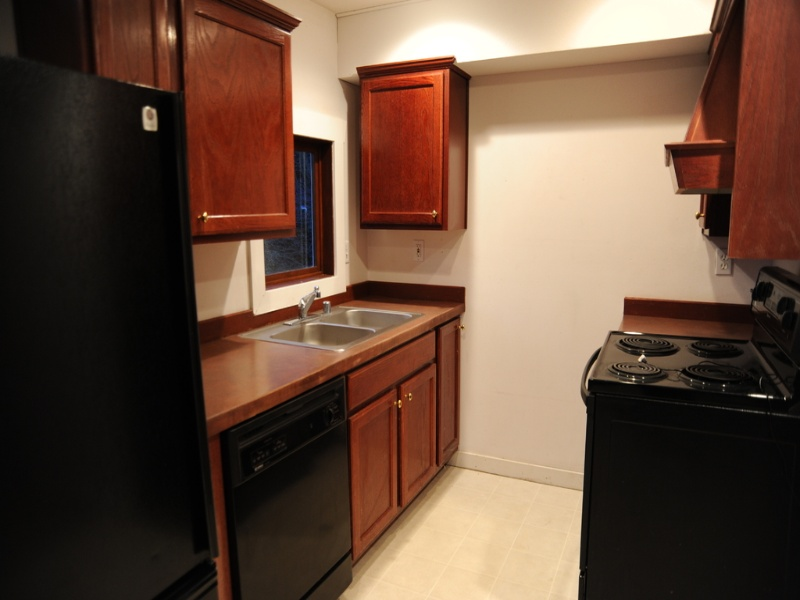oven: (568, 331, 788, 600)
refrigerator: (1, 49, 222, 599)
